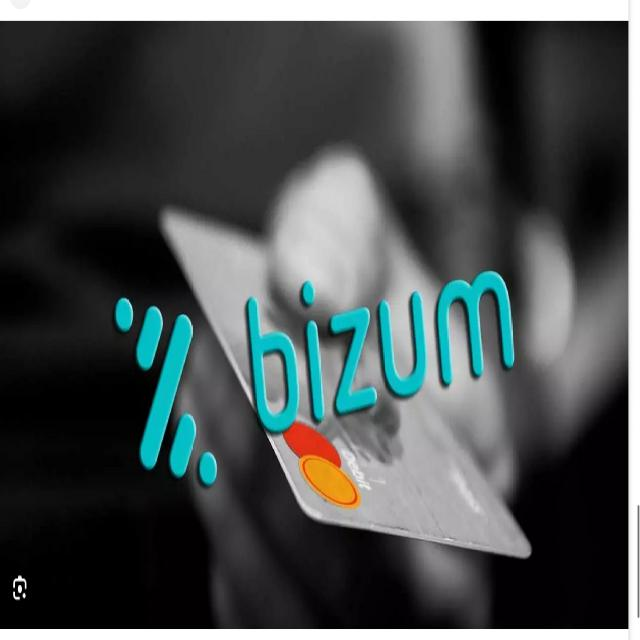bizum: (115, 269, 218, 484)
bizum_txt: (246, 270, 515, 433)
